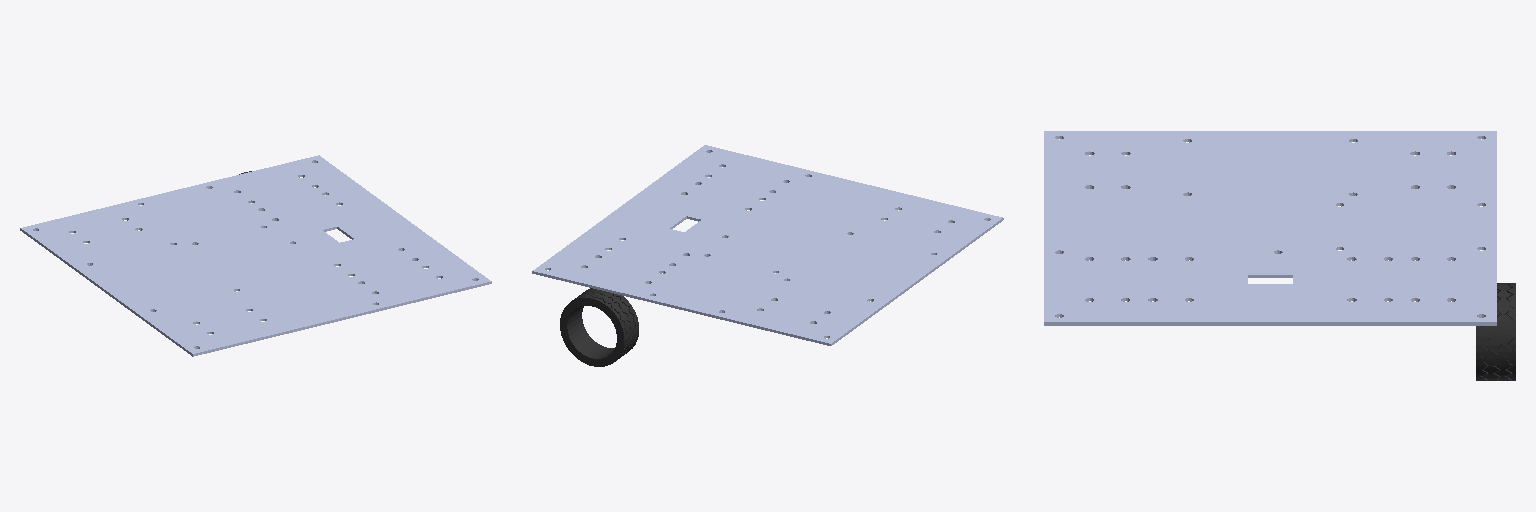
robot.urdf — Car_sample:
<?xml version="1.0" encoding="utf-8"?>
<!-- This URDF was automatically created by SolidWorks to URDF Exporter! Originally created by [author] ([email redacted]) 
     Commit Version: 1.6.0-1-g15f4949  Build Version: 1.6.7594.29634
     For more information, please see http://wiki.ros.org/sw_urdf_exporter -->
<robot
  name="Car_sample">
  <link
    name="base_footprint_link">
    <inertial>
      <origin
        xyz="-2.7756E-17 2.7756E-17 0.06945"
        rpy="0 0 0" />
      <mass
        value="0.22089" />
      <inertia
        ixx="0.001658"
        ixy="-3.7231E-07"
        ixz="-5.9729E-22"
        iyy="0.0016546"
        iyz="4.5439E-22"
        izz="0.0033124" />
    </inertial>
    <visual>
      <origin
        xyz="0 0 0"
        rpy="0 0 0" />
      <geometry>
        <mesh
          filename="package://Car_sample/meshes/base_footprint_link.STL" />
      </geometry>
      <material
        name="">
        <color
          rgba="0.79216 0.81961 0.93333 1" />
      </material>
    </visual>
    <collision>
      <origin
        xyz="0 0 0"
        rpy="0 0 0" />
      <geometry>
        <mesh
          filename="package://Car_sample/meshes/base_footprint_link.STL" />
      </geometry>
    </collision>
  </link>
  <link
    name="base_Link">
    <inertial>
      <origin
        xyz="-2.7756E-17 2.7756E-17 0.00125"
        rpy="0 0 0" />
      <mass
        value="0.22089" />
      <inertia
        ixx="0.001658"
        ixy="-3.7231E-07"
        ixz="-5.8484E-22"
        iyy="0.0016546"
        iyz="4.5398E-22"
        izz="0.0033124" />
    </inertial>
    <visual>
      <origin
        xyz="0 0 0"
        rpy="0 0 0" />
      <geometry>
        <mesh
          filename="package://Car_sample/meshes/base_Link.STL" />
      </geometry>
      <material
        name="">
        <color
          rgba="0.79216 0.81961 0.93333 1" />
      </material>
    </visual>
    <collision>
      <origin
        xyz="0 0 0"
        rpy="0 0 0" />
      <geometry>
        <mesh
          filename="package://Car_sample/meshes/base_Link.STL" />
      </geometry>
    </collision>
  </link>
  <joint
    name="base_link_joint"
    type="fixed">
    <origin
      xyz="0 0 0.0682"
      rpy="0 0 0" />
    <parent
      link="base_footprint_link" />
    <child
      link="base_Link" />
    <axis
      xyz="0 0 0" />
  </joint>
  <link
    name="LF_link">
    <inertial>
      <origin
        xyz="5.4385E-08 0.14718 1.7232E-07"
        rpy="0 0 0" />
      <mass
        value="0.034412" />
      <inertia
        ixx="1.6337E-05"
        ixy="3.8986E-11"
        ixz="-9.4448E-11"
        iyy="2.8778E-05"
        iyz="1.5541E-11"
        izz="1.6337E-05" />
    </inertial>
    <visual>
      <origin
        xyz="0 0 0"
        rpy="0 0 0" />
      <geometry>
        <mesh
          filename="package://Car_sample/meshes/LF_link.STL" />
      </geometry>
      <material
        name="">
        <color
          rgba="0.25098 0.25098 0.25098 1" />
      </material>
    </visual>
    <collision>
      <origin
        xyz="0 0 0"
        rpy="0 0 0" />
      <geometry>
        <mesh
          filename="package://Car_sample/meshes/LF_link.STL" />
      </geometry>
    </collision>
  </link>
  <joint
    name="LF_joint"
    type="continuous">
    <origin
      xyz="0.08341 0.0023758 -0.0357"
      rpy="0 0 0" />
    <parent
      link="base_Link" />
    <child
      link="LF_link" />
    <axis
      xyz="0 1 0" />
  </joint>
  <link
    name="RF_Link">
    <inertial>
      <origin
        xyz="-0.093792 0.0043371 0.051983"
        rpy="0 0 0" />
      <mass
        value="2.7727" />
      <inertia
        ixx="0.02252"
        ixy="-0.00014419"
        ixz="0.0037902"
        iyy="0.026497"
        iyz="-0.00022838"
        izz="0.039987" />
    </inertial>
    <visual>
      <origin
        xyz="0 0 0"
        rpy="0 0 0" />
      <geometry>
        <mesh
          filename="package://Car_sample/meshes/RF_Link.STL" />
      </geometry>
      <material
        name="">
        <color
          rgba="1 1 1 1" />
      </material>
    </visual>
    <collision>
      <origin
        xyz="0 0 0"
        rpy="0 0 0" />
      <geometry>
        <mesh
          filename="package://Car_sample/meshes/RF_Link.STL" />
      </geometry>
    </collision>
  </link>
  <joint
    name="RF_joint"
    type="continuous">
    <origin
      xyz="0.08341 -0.0022242 -0.0357"
      rpy="0 0 0" />
    <parent
      link="base_Link" />
    <child
      link="RF_Link" />
    <axis
      xyz="0 1 0" />
  </joint>
  <link
    name="LB_Link">
    <inertial>
      <origin
        xyz="0.10756 -0.12346 0.05933"
        rpy="0 0 0" />
      <mass
        value="2.7727" />
      <inertia
        ixx="0.02252"
        ixy="-0.00014419"
        ixz="0.0037902"
        iyy="0.026497"
        iyz="-0.00022838"
        izz="0.039987" />
    </inertial>
    <visual>
      <origin
        xyz="0 0 0"
        rpy="0 0 0" />
      <geometry>
        <mesh
          filename="package://Car_sample/meshes/LB_Link.STL" />
      </geometry>
      <material
        name="">
        <color
          rgba="1 1 1 1" />
      </material>
    </visual>
    <collision>
      <origin
        xyz="0 0 0"
        rpy="0 0 0" />
      <geometry>
        <mesh
          filename="package://Car_sample/meshes/LB_Link.STL" />
      </geometry>
    </collision>
  </link>
  <joint
    name="LB_joint"
    type="continuous">
    <origin
      xyz="-0.11794 0.12558 -0.043047"
      rpy="0 0 0" />
    <parent
      link="base_Link" />
    <child
      link="LB_Link" />
    <axis
      xyz="0 1 0" />
  </joint>
  <link
    name="RB_Link">
    <inertial>
      <origin
        xyz="0.10756 0.12754 0.059331"
        rpy="0 0 0" />
      <mass
        value="2.7727" />
      <inertia
        ixx="0.02252"
        ixy="-0.00014419"
        ixz="0.0037902"
        iyy="0.026497"
        iyz="-0.00022838"
        izz="0.039987" />
    </inertial>
    <visual>
      <origin
        xyz="0 0 0"
        rpy="0 0 0" />
      <geometry>
        <mesh
          filename="package://Car_sample/meshes/RB_Link.STL" />
      </geometry>
      <material
        name="">
        <color
          rgba="1 1 1 1" />
      </material>
    </visual>
    <collision>
      <origin
        xyz="0 0 0"
        rpy="0 0 0" />
      <geometry>
        <mesh
          filename="package://Car_sample/meshes/RB_Link.STL" />
      </geometry>
    </collision>
  </link>
  <joint
    name="RB_joint"
    type="continuous">
    <origin
      xyz="-0.11794 -0.12542 -0.043048"
      rpy="0 0 0" />
    <parent
      link="base_Link" />
    <child
      link="RB_Link" />
    <axis
      xyz="0 1 0" />
  </joint>
</robot>

--- Facts derived from the render (not from the file) ---
The picture shows the robot from 3 angles, left to right: view 1: azimuth 30°, elevation 25°; view 2: azimuth 150°, elevation 25°; view 3: azimuth 270°, elevation 25°; orthographic projection.
Model Car_sample with 6 links and 5 joints (4 continuous, 1 fixed), rooted at base_footprint_link, posed every joint at zero.
Links seen in each view (by area): view 1: base_footprint_link; view 2: base_footprint_link, LF_link; view 3: base_footprint_link, LF_link.
Boxes of the visible links, x1,y1,x2,y2 form: base_footprint_link: (20,155,491,356); base_footprint_link: (532,145,1003,345); LF_link: (560,288,638,366); base_footprint_link: (1044,131,1496,325); LF_link: (1476,283,1515,380).
Bounding box of the posed robot: 0.3 × 0.3125 × 0.0707 m (x, y, z).
Meshes: 6 distinct files referenced, 3 mesh visuals loaded (3 binary STL); not drawn: 3 (file found but could not be loaded).